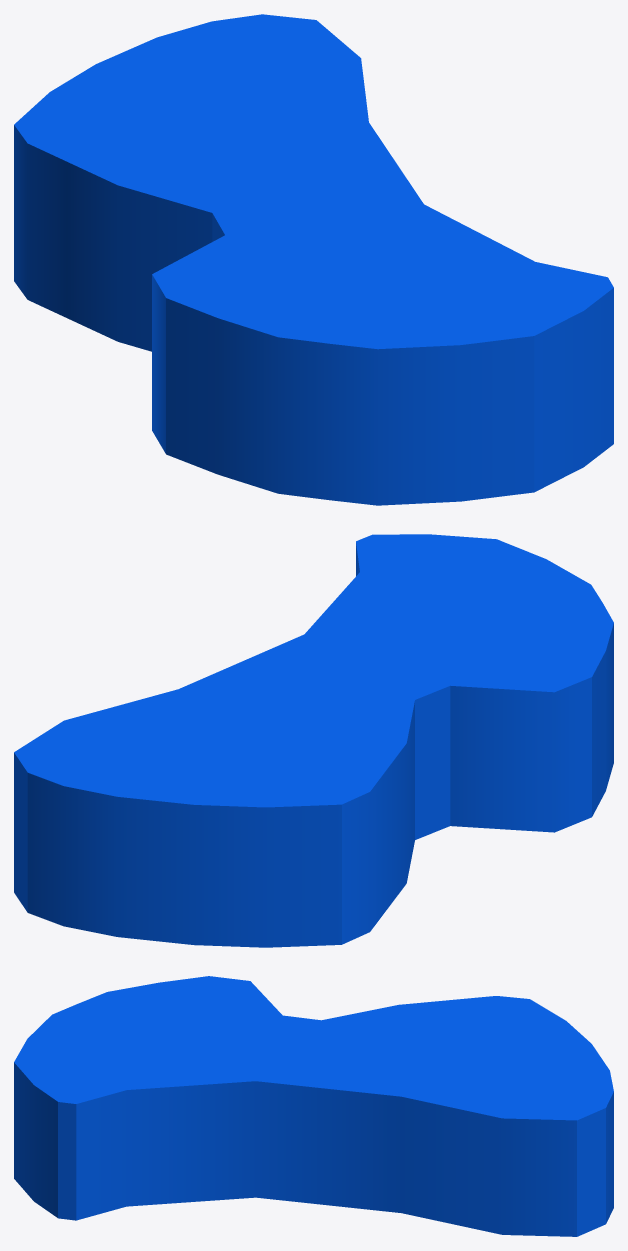
File: pond_volume.FBX
The picture shows the model from 3 angles, top to bottom: view 1: azimuth 30°, elevation 25°; view 2: azimuth 150°, elevation 25°; view 3: azimuth 270°, elevation 25°; orthographic projection. The views are drawn at different scales.
Visible parts, largest first — view 1: Object001; view 2: Object001; view 3: Object001.
Boxes of the visible parts, bbox=[...] form: Object001: bbox=[14, 14, 613, 505]; Object001: bbox=[14, 534, 613, 947]; Object001: bbox=[14, 976, 613, 1236].
Size of the model in its own units: 47.21 by 17.75 by 82.88.
